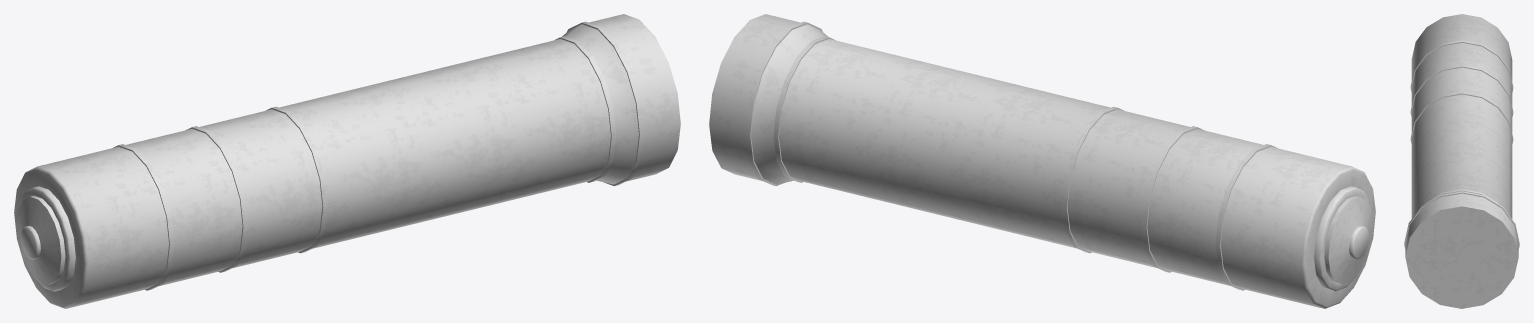
File: Steam Train Body_A_001.fbx
The picture shows the model from 3 angles, left to right: view 1: azimuth 30°, elevation 25°; view 2: azimuth 150°, elevation 25°; view 3: azimuth 270°, elevation 25°; orthographic projection. The views are drawn at different scales.
Parts seen in each view (by area): view 1: Steam_Train_Body_A_001; view 2: Steam_Train_Body_A_001; view 3: Steam_Train_Body_A_001.
Boxes of the visible parts, left/top/right/bottom form: Steam_Train_Body_A_001: left=14, top=14, right=680, bottom=308; Steam_Train_Body_A_001: left=709, top=14, right=1375, bottom=308; Steam_Train_Body_A_001: left=1404, top=14, right=1519, bottom=308.
Size of the model in its own units: 657 by 156 by 156.
3 materials, 3 textured.
